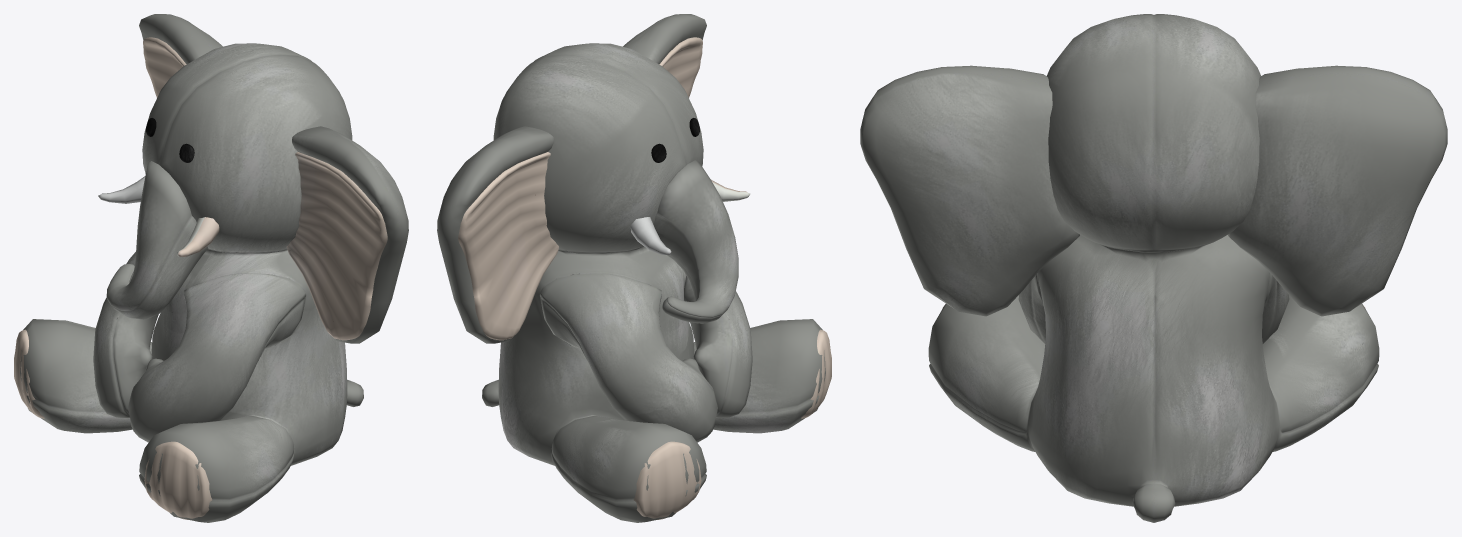
3 views of the same model, side by side, from view 1: azimuth 30°, elevation 25°; view 2: azimuth 150°, elevation 25°; view 3: azimuth 270°, elevation 25° (orthographic). The views are drawn at different scales.
Parts seen in each view (by area): view 1: head; view 2: head; view 3: head.
Boxes of the visible parts, left/top/right/bottom form: head: left=14, top=14, right=408, bottom=522; head: left=437, top=14, right=831, bottom=522; head: left=860, top=14, right=1447, bottom=522.
Bounding box in the file's own units: 0.4115 × 0.6499 × 0.5516.
1 material, 1 textured.
